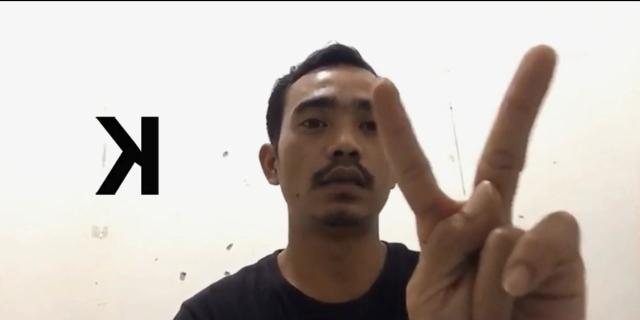K: (368, 43, 592, 320)
